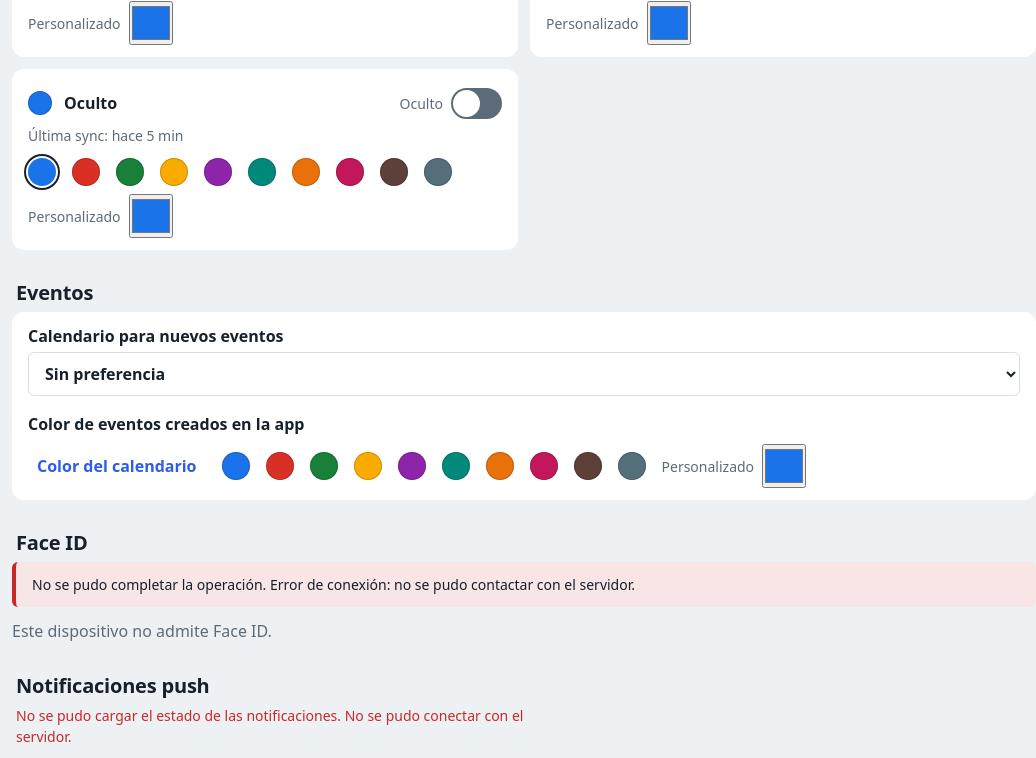
it: Ajustes: eventos › el selector solo ofrece calendarios escribibles y visibles y guarda
The width and height of the screenshot is (1036, 758).
(page scrolled)
Select "Personal" in the dropdown labelled "Calendario para nuevos eventos" at x=524, y=374, box x1=28 y1=352 x2=1020 y2=396
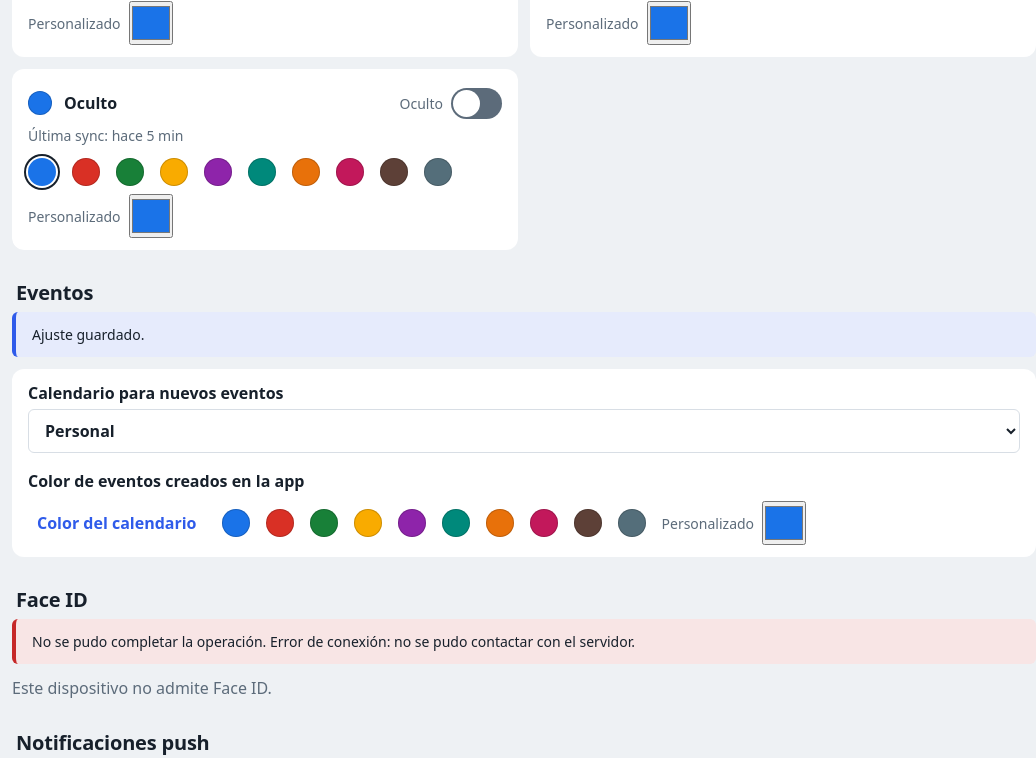
Result: the text "Ajuste guardado." is shown at x1=12 y1=312 x2=1035 y2=357
